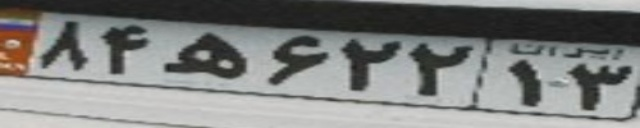1: (506, 56, 545, 105)
2: (408, 40, 476, 95), (339, 38, 401, 91)
3: (568, 61, 630, 110)
4: (101, 23, 146, 73)
6: (264, 32, 328, 84)
8: (40, 19, 89, 71)
he: (162, 30, 242, 78)
